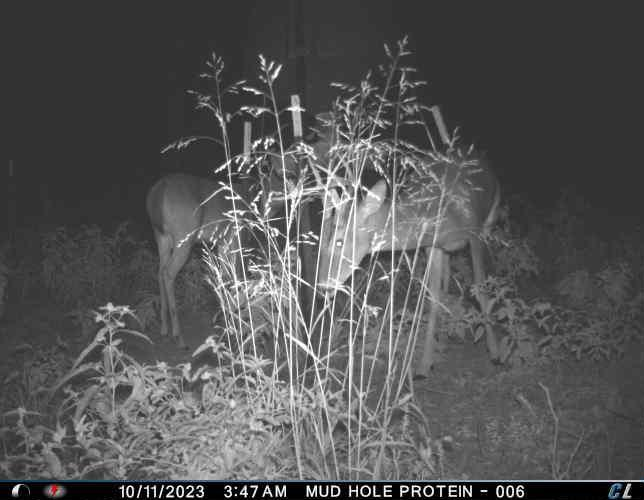Deer: (318, 144, 506, 385), (144, 146, 298, 348)
